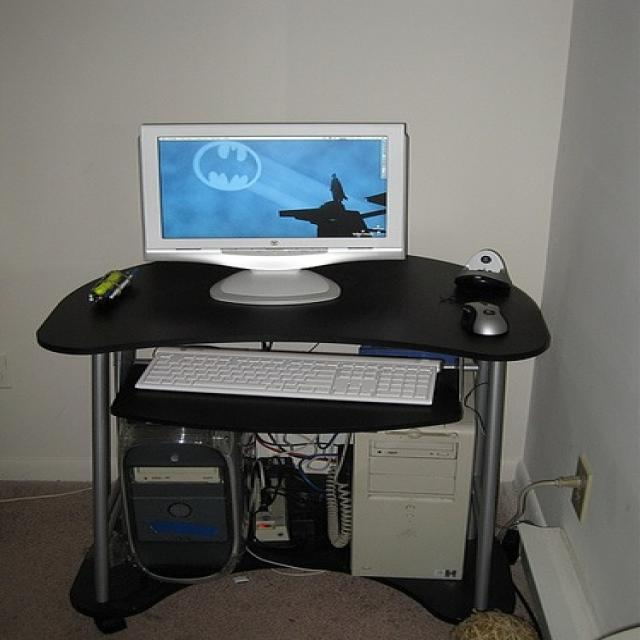tvmonitor: (138, 122, 412, 304)
